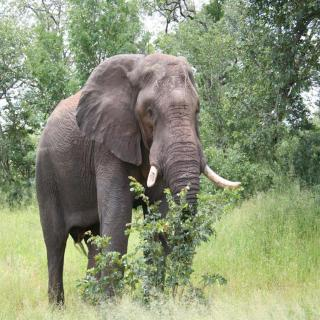Elephant: (29, 49, 246, 305)
